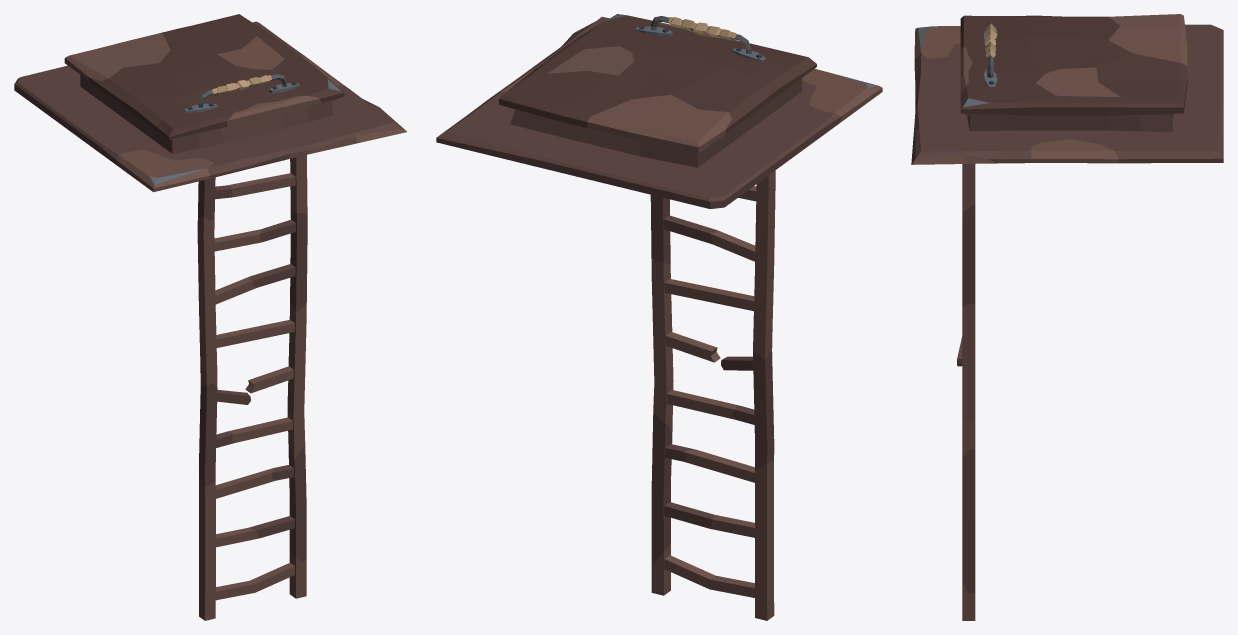
File: SM_Hatchway.fbx
3 renders of one model, left to right at view 1: azimuth 30°, elevation 25°; view 2: azimuth 150°, elevation 25°; view 3: azimuth 270°, elevation 25°, orthographic. The views are drawn at different scales.
Parts seen in each view (by area): view 1: SM_Hatchway_Ladder, SM_Hatchway_Hood, SM_Hatchway; view 2: SM_Hatchway_Hood, SM_Hatchway_Ladder, SM_Hatchway; view 3: SM_Hatchway, SM_Hatchway_Hood, SM_Hatchway_Ladder.
Boxes of the visible parts, bbox=[...] form: SM_Hatchway_Ladder: bbox=[197, 155, 307, 620]; SM_Hatchway_Hood: bbox=[64, 14, 344, 139]; SM_Hatchway: bbox=[14, 21, 406, 192]; SM_Hatchway_Hood: bbox=[499, 14, 816, 153]; SM_Hatchway_Ladder: bbox=[650, 170, 775, 620]; SM_Hatchway: bbox=[436, 16, 882, 208]; SM_Hatchway: bbox=[911, 24, 1223, 164]; SM_Hatchway_Hood: bbox=[960, 14, 1187, 115]; SM_Hatchway_Ladder: bbox=[957, 164, 975, 620].
Size of the model in its own units: 171 by 337 by 171.
